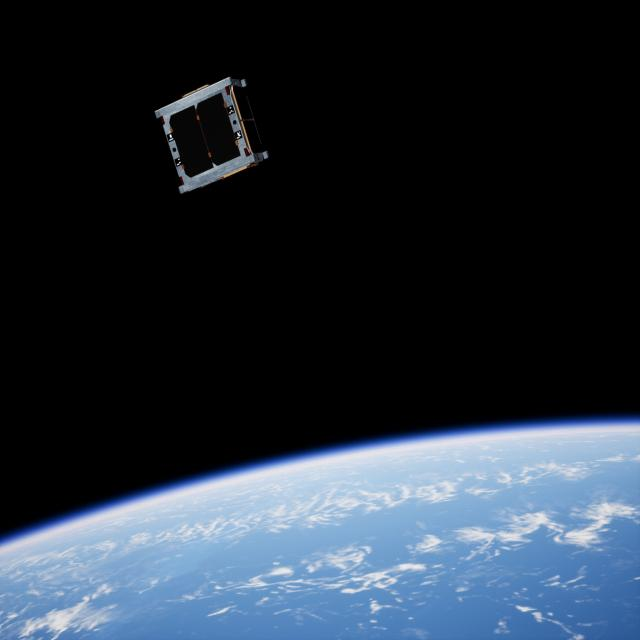medium_debris: (146, 69, 274, 195)
